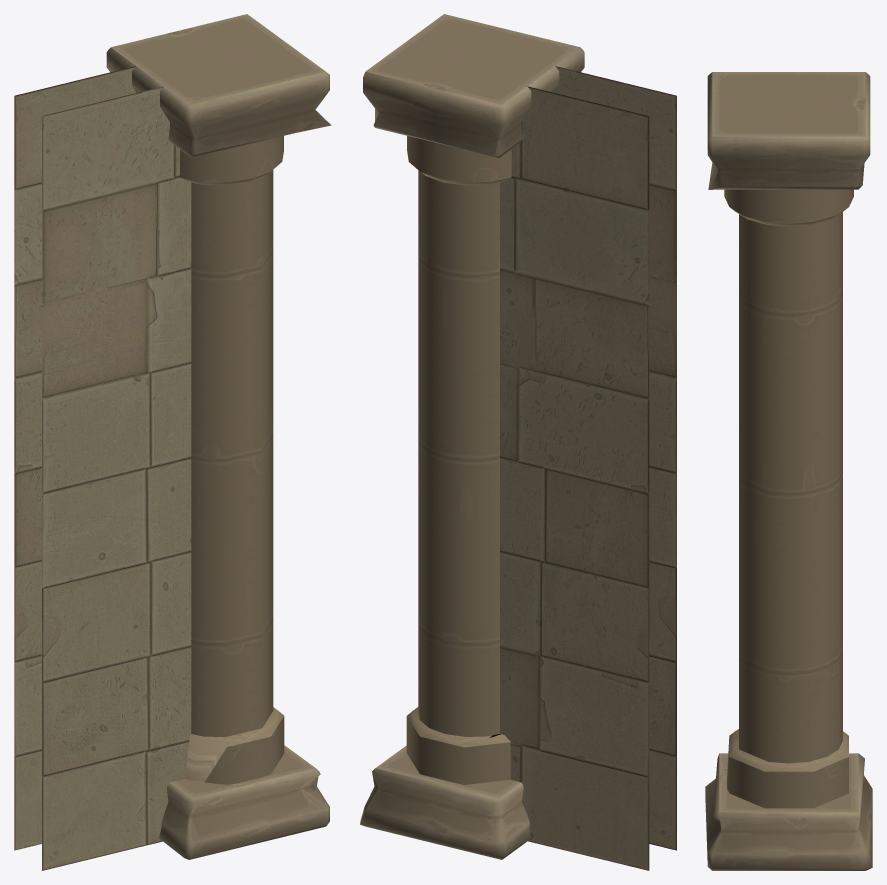
Rendered from ARC0510019.fbx.
3 renders of one model, left to right at view 1: azimuth 30°, elevation 25°; view 2: azimuth 150°, elevation 25°; view 3: azimuth 270°, elevation 25°, orthographic. The views are drawn at different scales.
Parts seen in each view (by area): view 1: smARC0510019; view 2: smARC0510019; view 3: smARC0510019.
Boxes of the visible parts, x1=… form: smARC0510019: x1=14, y1=14, x2=331, y2=870; smARC0510019: x1=360, y1=14, x2=676, y2=870; smARC0510019: x1=705, y1=72, x2=872, y2=870.
Size of the model in its own units: 110 by 300 by 61.88.
1 material, 1 textured.
